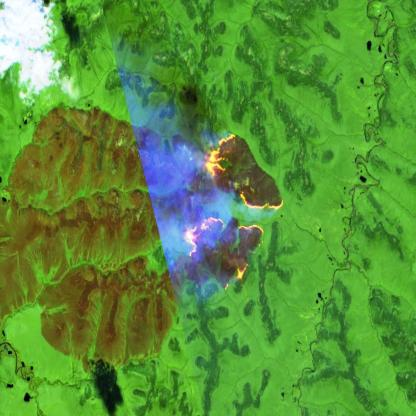fire: (177, 126, 283, 292)
